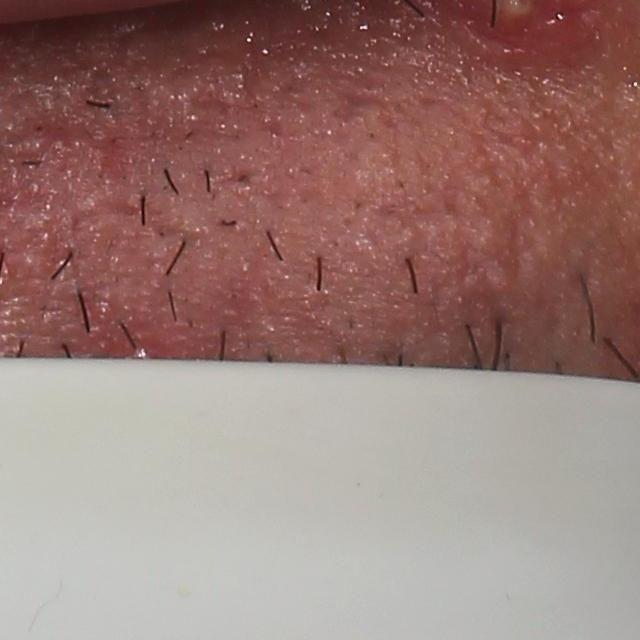atrophic_scar: (327, 80, 387, 125)
